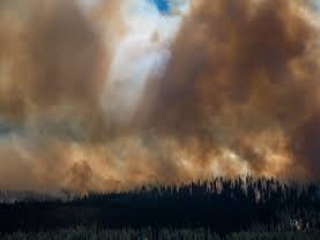smoke: (7, 8, 315, 150), (33, 128, 302, 202)
